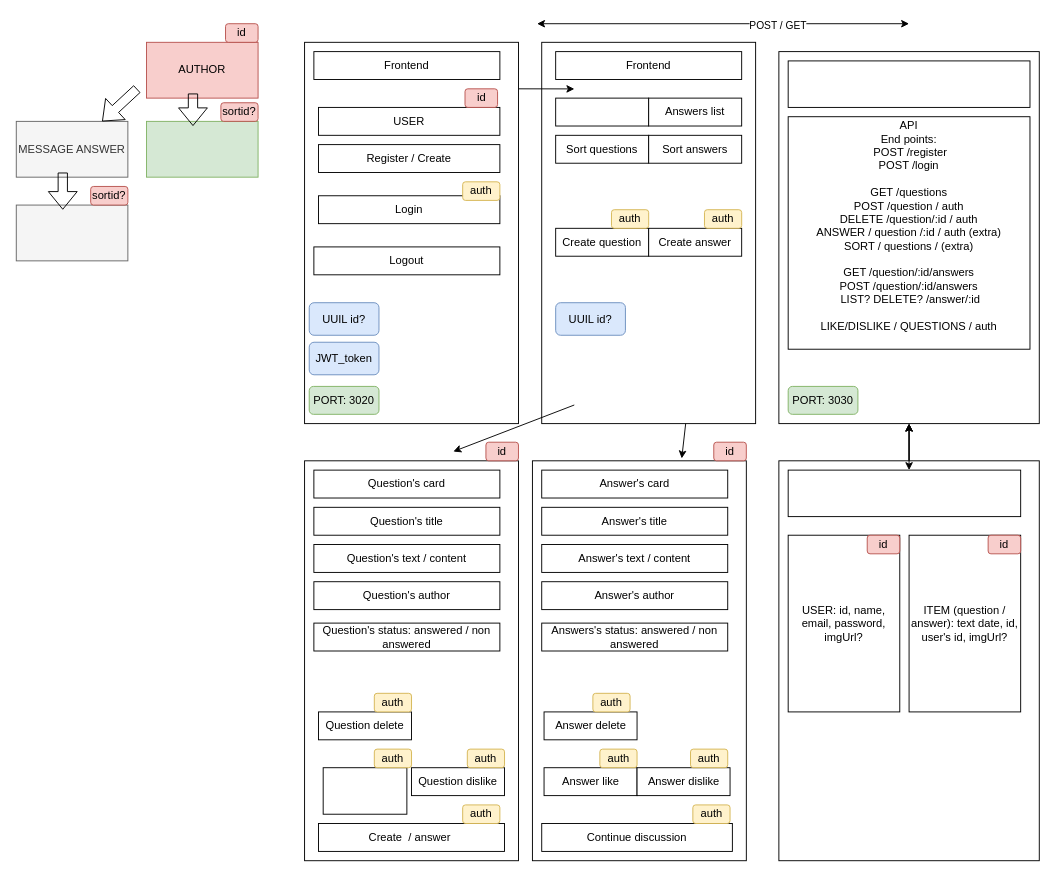
The diagram is 1056 pixels wide and 877 high, and some of its shapes have lost their labels. Each missing label, with the box of its shape:
ANSWER=MESSAGE className {styles.answer}: (15, 204, 128, 261)
MESSAGE: (146, 120, 258, 177)
mockAPI: (787, 60, 1030, 107)
MONGOO DB: (787, 469, 1021, 517)
Question like: counter(store usersID): (322, 767, 407, 814)
Questions list: (555, 97, 649, 126)
